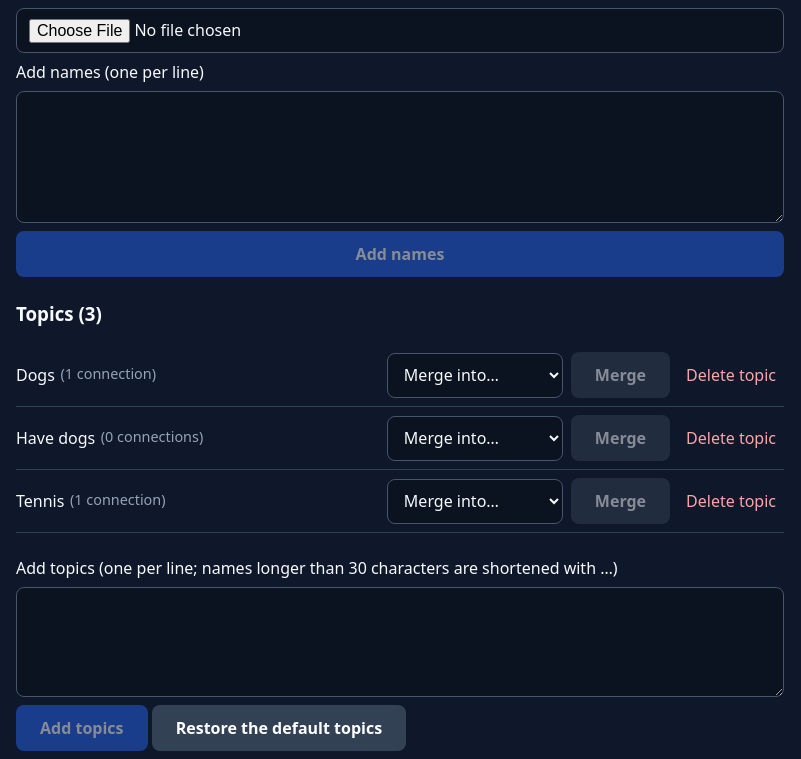
it: topics › merges one topic into another after confirming
The width and height of the screenshot is (801, 759).
(page scrolled)
Expected: the text "Dogs" is shown, [16,364,55,386]
Expected: the button with aria-label "Merge Dogs" is disabled, [571,352,670,398]
Step 1. Select "Have dogs" in the dropdown named "Merge into Dogs" → [475, 375], box [387,353,563,398]
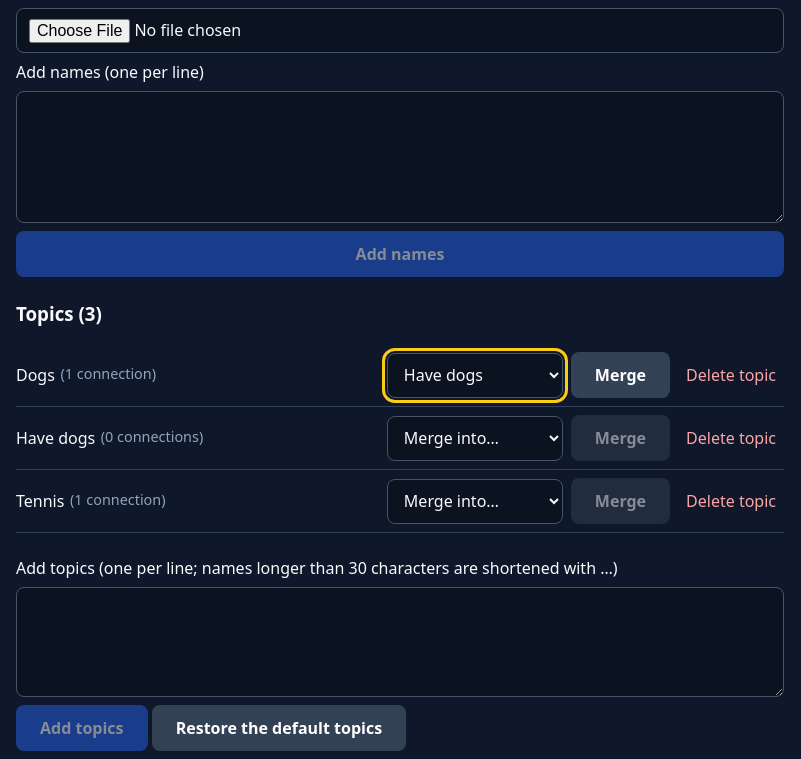
Step 2. Click the button with aria-label "Merge Dogs" → [620, 375], box [571,352,670,398]
(page scrolled)
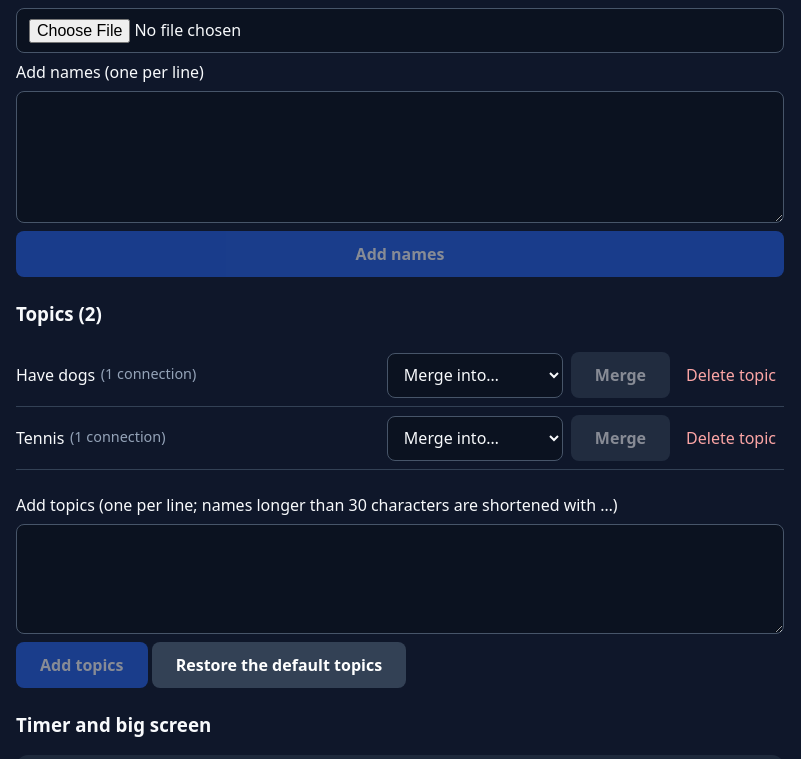
Result: the 1st text "(1 connection)" is shown at [101,364,196,386]
